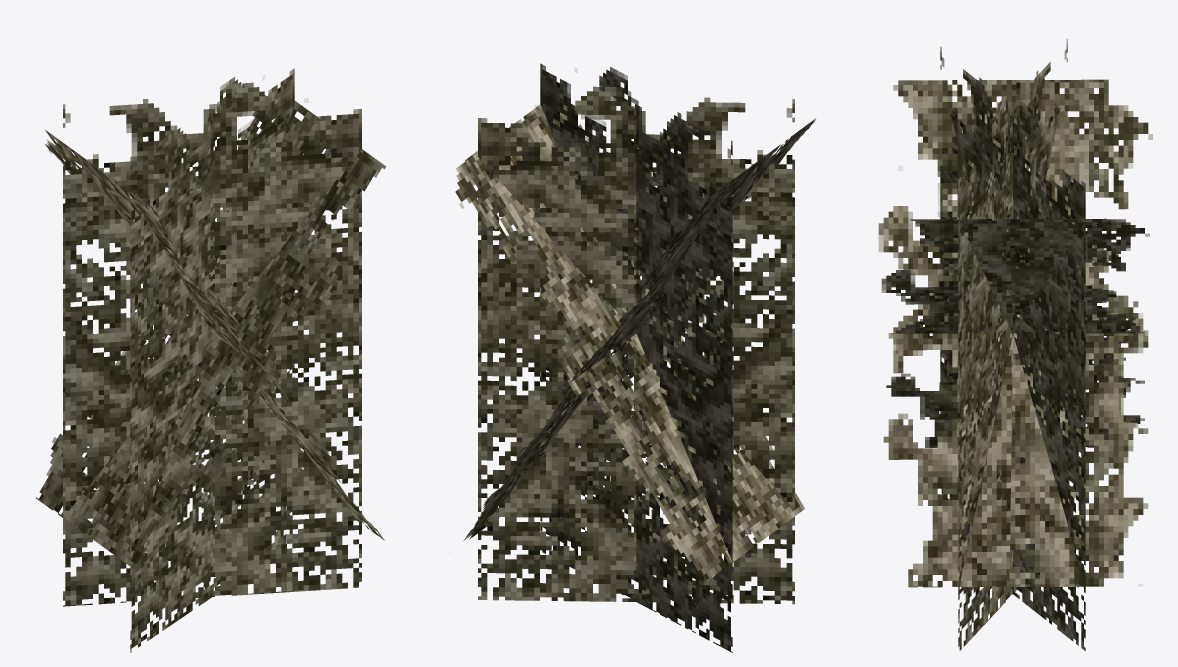
Rendered from bush_tall_half_full_overgrown_dead.glb.
3 views of the same model, side by side, from view 1: azimuth 30°, elevation 25°; view 2: azimuth 150°, elevation 25°; view 3: azimuth 270°, elevation 25° (orthographic). The views are drawn at different scales.
Parts seen in each view (by area): view 1: bush_tall_half_full_overgrown_dead; view 2: bush_tall_half_full_overgrown_dead; view 3: bush_tall_half_full_overgrown_dead.
Boxes of the visible parts, box(x1,y1,x2,y2) form: bush_tall_half_full_overgrown_dead: box(36, 68, 386, 652); bush_tall_half_full_overgrown_dead: box(455, 63, 815, 652); bush_tall_half_full_overgrown_dead: box(878, 39, 1152, 650).
Size of the model in its own units: 1 by 2.06 by 1.08.
Materials: 1 (1 with a texture image).
